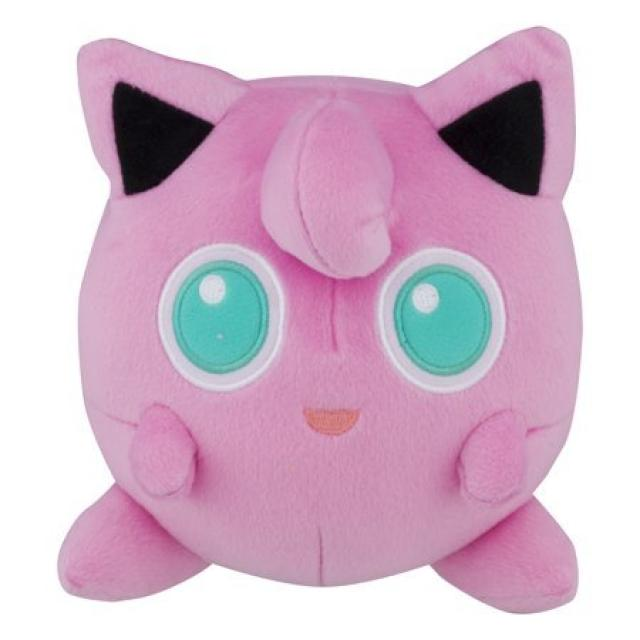Jigglypuff: (79, 36, 578, 606)
